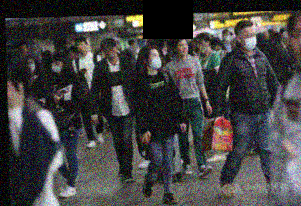mask_weared_incorrect: (194, 39, 208, 53), (161, 44, 168, 56)
with_mask: (240, 30, 258, 51), (147, 51, 163, 71), (51, 59, 64, 74), (25, 60, 36, 73), (223, 32, 232, 42), (215, 46, 223, 56)
without_mask: (104, 47, 118, 61), (176, 42, 190, 56), (75, 41, 88, 53), (19, 45, 29, 57), (68, 51, 77, 60)
